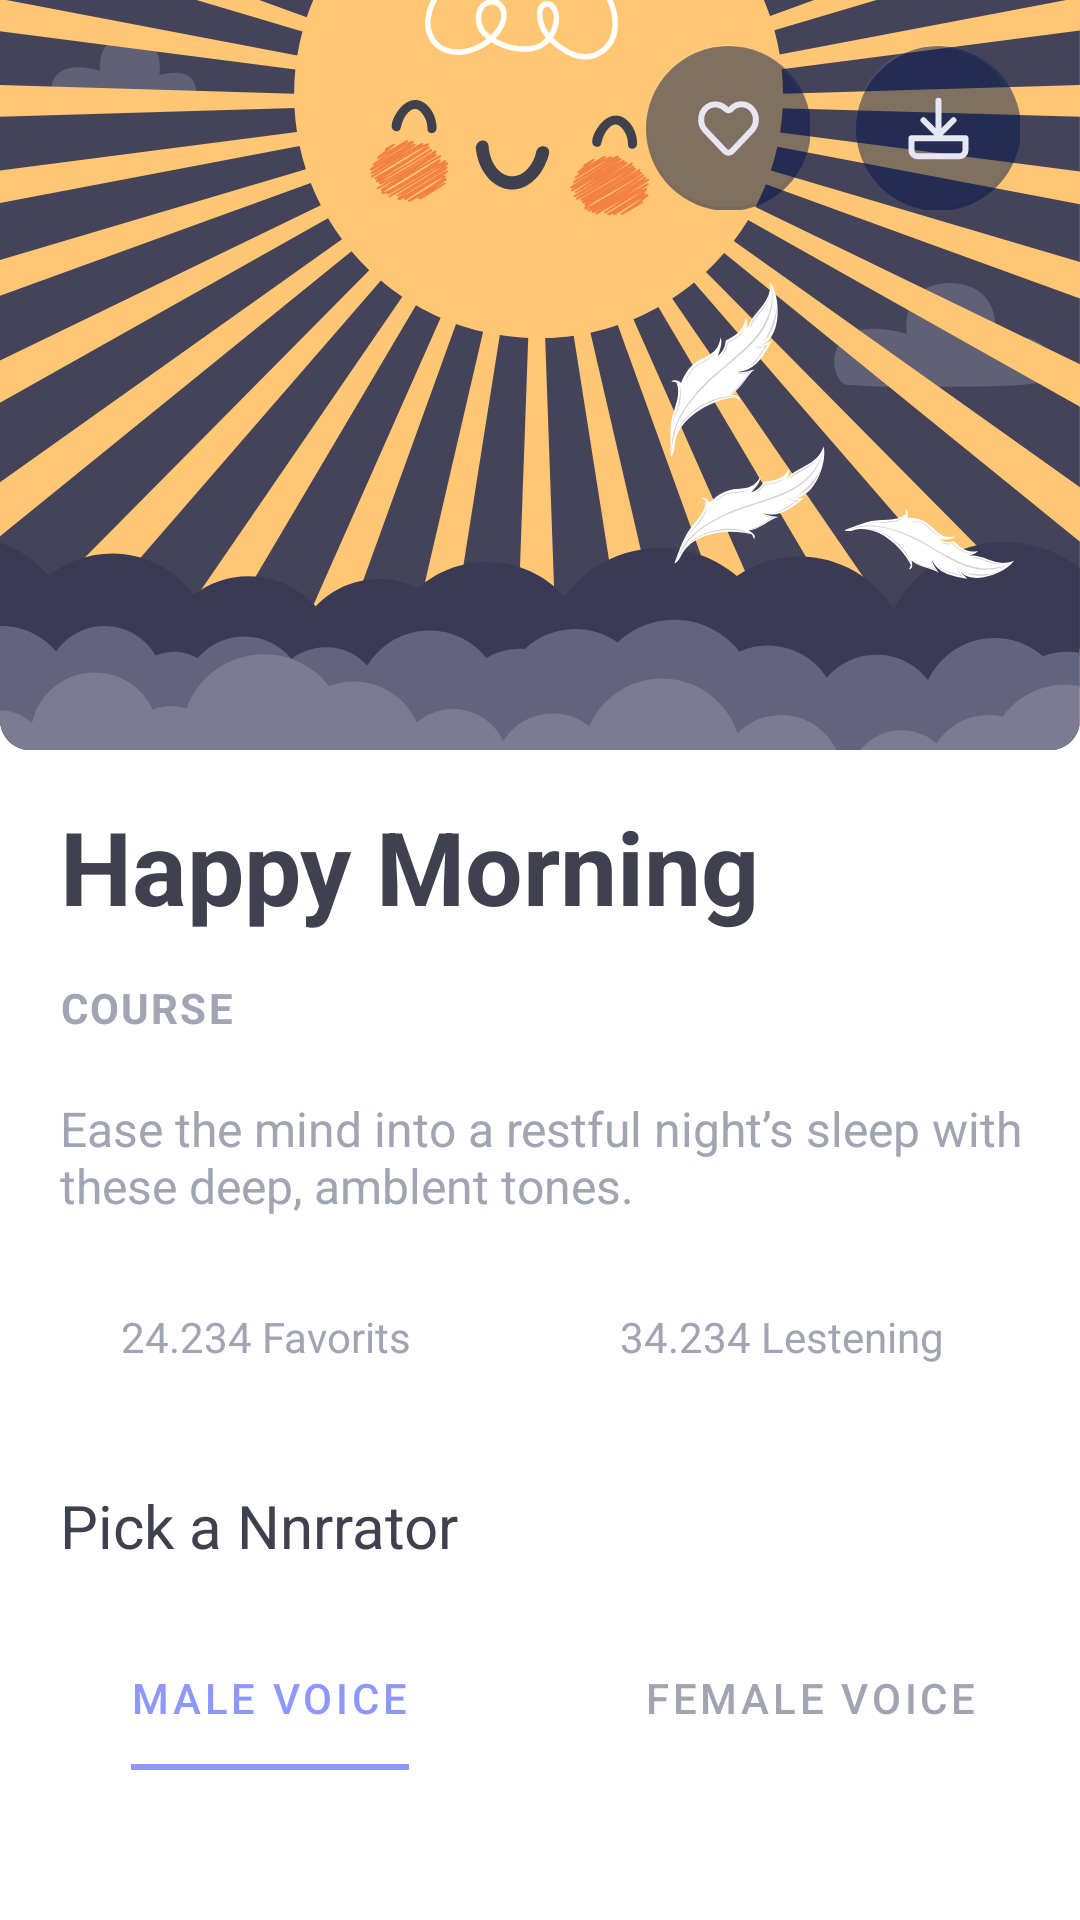

Named icons in this screenshot (1080 × 1920) and their centers, [x,y]:
music download: [937,127]
music like: [727,127]
